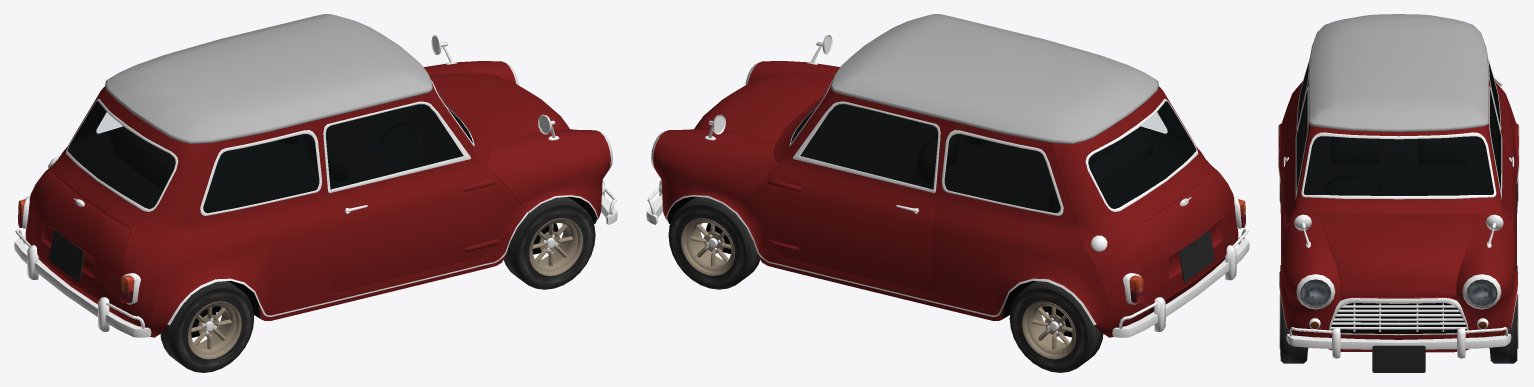
File: car.glb
3 renders of one model, left to right at view 1: azimuth 30°, elevation 25°; view 2: azimuth 150°, elevation 25°; view 3: azimuth 270°, elevation 25°, orthographic. The views are drawn at different scales.
Visible parts, largest first — view 1: bodyshell_ASTNMINI_BODY_0, roof_ASTNMINI_ROOFCOLOUR_0, interior_ASTNMINI_VOID_0, bodyshell_chrometrim_ASTNMINI_CHROME_0, tier003_ASTNMINI_tier_1t_0, tier002_ASTNMINI_tier_1t_0, bumper_rear_ASTNMINI_CHROME_0, rim002_ASTNMINI_RIMCOLOUR_0, rim003_ASTNMINI_RIMCOLOUR_0, rear_numperplate, sidemirrors_ASTNMINI_CHROME_0, bottom_ASTNMINI_VOID_0 (+1 smaller); view 2: bodyshell_ASTNMINI_BODY_0, roof_ASTNMINI_ROOFCOLOUR_0, interior_ASTNMINI_VOID_0, bodyshell_chrometrim_ASTNMINI_CHROME_0, tier_ASTNMINI_tier_1t_0, tier001_ASTNMINI_tier_1t_0, bumper_rear_ASTNMINI_CHROME_0, rim001_ASTNMINI_RIMCOLOUR_0, rim_ASTNMINI_RIMCOLOUR_0, rear_numperplate, sidemirrors_ASTNMINI_CHROME_0, bottom_ASTNMINI_VOID_0 (+1 smaller); view 3: bodyshell_ASTNMINI_BODY_0, roof_ASTNMINI_ROOFCOLOUR_0, interior_ASTNMINI_VOID_0, grill_ASTNMINI_CHROME_0, bodyshell_chrometrim_ASTNMINI_CHROME_0, bumper_front_ASTNMINI_CHROME_0, grill_void_ASTNMINI_VOID_0, numberplate_front_ASTNMINI_PLASTIC_0, headlights_reflector_ASTNMINI_headlights_ucb_0, headlights_ASTNMINI_CHROME_0, tier_ASTNMINI_tier_1t_0, tier003_ASTNMINI_tier_1t_0 (+1 smaller).
Part boxes in pixels (<box>): bodyshell_ASTNMINI_BODY_0: <box>25,61,610,337</box>; roof_ASTNMINI_ROOFCOLOUR_0: <box>105,14,432,144</box>; interior_ASTNMINI_VOID_0: <box>67,101,472,213</box>; bodyshell_chrometrim_ASTNMINI_CHROME_0: <box>48,80,597,325</box>; tier003_ASTNMINI_tier_1t_0: <box>503,197,595,289</box>; tier002_ASTNMINI_tier_1t_0: <box>160,281,254,372</box>; bumper_rear_ASTNMINI_CHROME_0: <box>14,228,151,337</box>; rim002_ASTNMINI_RIMCOLOUR_0: <box>187,301,241,359</box>; rim003_ASTNMINI_RIMCOLOUR_0: <box>529,218,583,276</box>; rear_numperplate: <box>49,230,84,281</box>; sidemirrors_ASTNMINI_CHROME_0: <box>431,35,559,140</box>; bottom_ASTNMINI_VOID_0: <box>214,196,596,319</box>; bodyshell_ASTNMINI_BODY_0: <box>653,61,1238,337</box>; roof_ASTNMINI_ROOFCOLOUR_0: <box>831,14,1158,144</box>; interior_ASTNMINI_VOID_0: <box>791,101,1196,213</box>; bodyshell_chrometrim_ASTNMINI_CHROME_0: <box>666,80,1198,325</box>; tier_ASTNMINI_tier_1t_0: <box>668,196,760,289</box>; tier001_ASTNMINI_tier_1t_0: <box>1009,281,1103,372</box>; bumper_rear_ASTNMINI_CHROME_0: <box>1112,228,1249,337</box>; rim001_ASTNMINI_RIMCOLOUR_0: <box>1022,301,1075,359</box>; rim_ASTNMINI_RIMCOLOUR_0: <box>681,218,734,275</box>; rear_numperplate: <box>1179,230,1214,282</box>; sidemirrors_ASTNMINI_CHROME_0: <box>705,35,832,140</box>; bottom_ASTNMINI_VOID_0: <box>667,196,1049,319</box>; bodyshell_ASTNMINI_BODY_0: <box>1279,78,1518,352</box>; roof_ASTNMINI_ROOFCOLOUR_0: <box>1308,14,1489,132</box>; interior_ASTNMINI_VOID_0: <box>1296,62,1501,195</box>; grill_ASTNMINI_CHROME_0: <box>1329,298,1468,335</box>; bodyshell_chrometrim_ASTNMINI_CHROME_0: <box>1278,58,1519,330</box>; bumper_front_ASTNMINI_CHROME_0: <box>1286,327,1511,358</box>; grill_void_ASTNMINI_VOID_0: <box>1330,303,1466,334</box>; numberplate_front_ASTNMINI_PLASTIC_0: <box>1372,345,1425,372</box>; headlights_reflector_ASTNMINI_headlights_ucb_0: <box>1300,279,1497,307</box>; headlights_ASTNMINI_CHROME_0: <box>1296,274,1501,309</box>; tier_ASTNMINI_tier_1t_0: <box>1489,295,1517,363</box>; tier003_ASTNMINI_tier_1t_0: <box>1280,296,1307,363</box>.
Bounding box in the file's own units: 1.8 × 0.7889 × 0.8438.
Materials: 9 (2 with a texture image).
